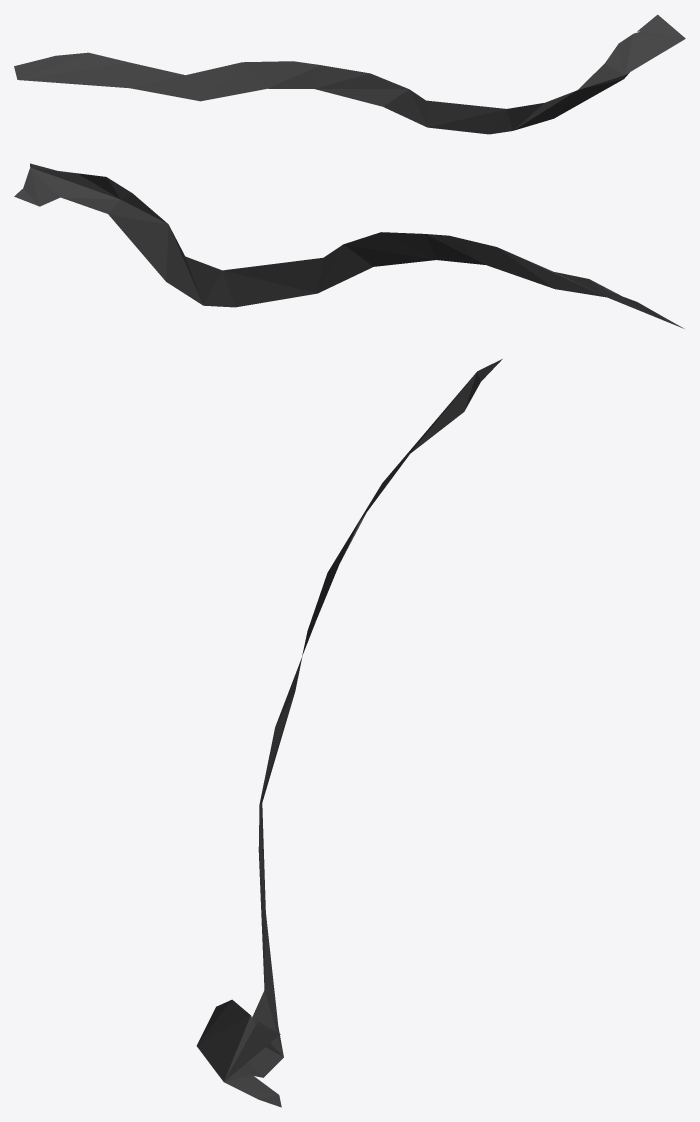
File: A_thyroid_caud_L_A_thyroid_caud_L.glb
The picture shows the model from 3 angles, top to bottom: view 1: azimuth 30°, elevation 25°; view 2: azimuth 150°, elevation 25°; view 3: azimuth 270°, elevation 25°; orthographic projection. The views are drawn at different scales.
Parts seen in each view (by area): view 1: A_thyroid_caud_L_A_thyroid_caud_L; view 2: A_thyroid_caud_L_A_thyroid_caud_L; view 3: A_thyroid_caud_L_A_thyroid_caud_L.
Boxes of the visible parts, left/top/right/bottom form: A_thyroid_caud_L_A_thyroid_caud_L: left=14, top=14, right=685, bottom=134; A_thyroid_caud_L_A_thyroid_caud_L: left=14, top=163, right=684, bottom=328; A_thyroid_caud_L_A_thyroid_caud_L: left=196, top=359, right=502, bottom=1107.
Size of the model in its own units: 0.0209 by 0.00459 by 0.0046.
Materials: 1 (1 with a texture image).
